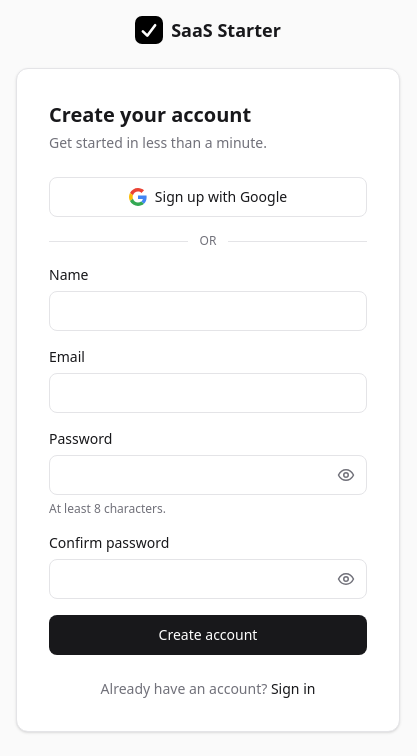
Test: Signup page › validates password length and confirmation
This screenshot has width=417, height=756.
Expected: the heading "Create your account" is shown, [49,101,251,128]
Type "Ada Lovelace" into the field labelled "Name" at coordinates (208, 311), box [49,291,367,331]
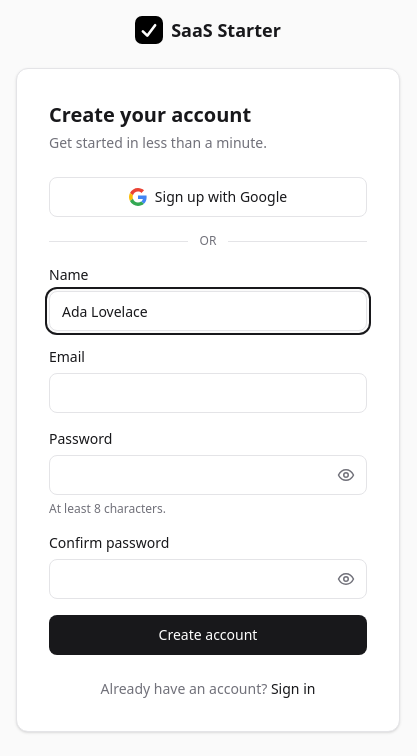
Type "ada@example.com" into the field labelled "Email" at coordinates (208, 393), box [49,373,367,413]
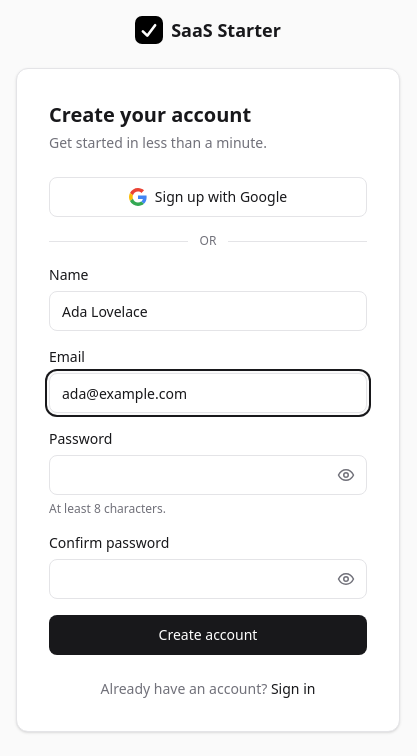
Type "short" into the password field labelled "Password" at coordinates (208, 475), box [49,455,367,495]
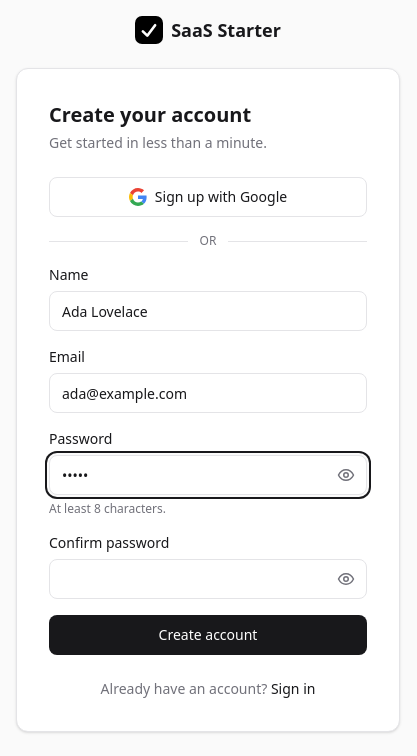
Type "different" into the password field labelled "Confirm password" at coordinates (208, 579), box [49,559,367,599]
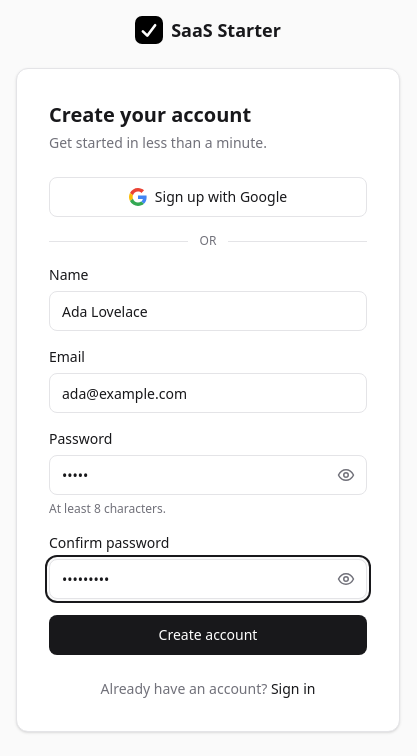
Click the button "Create account" at coordinates (208, 635), box [49,615,367,655]
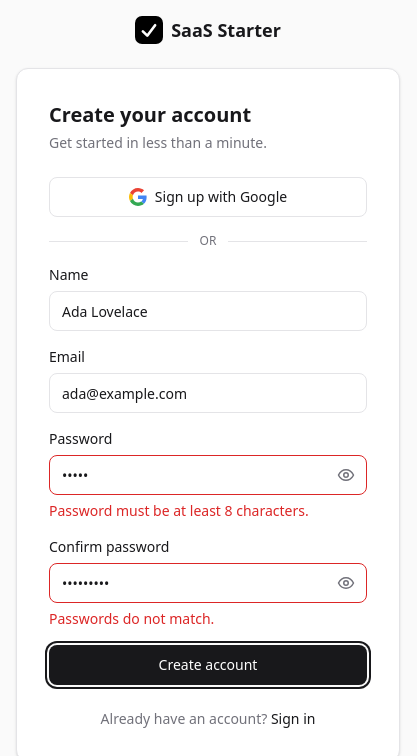
Expected: the text "Password must be at least 8 characters." is shown, [49,501,309,520]
Expected: the text "Passwords do not match." is shown, [49,609,214,628]
